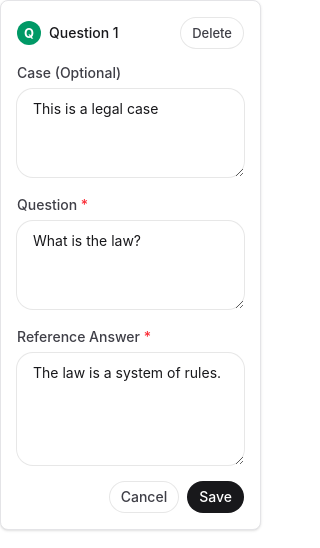
Test: QuestionCard › QA type questions › handles save and cancel actions
Make a change
Replace the text in the 2nd text box showing "What is the law?" with "Modified question": (130, 265) 17,221 -> 244,309
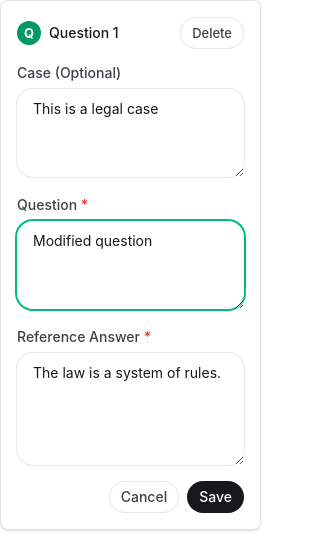
Click the button "Save": click(216, 497) 187,481 -> 244,513
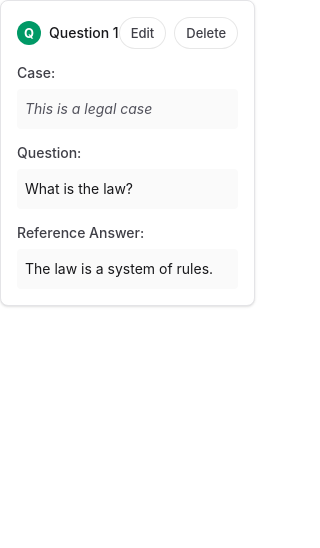
Now the button "Edit" is shown, box 119,17 -> 166,49
